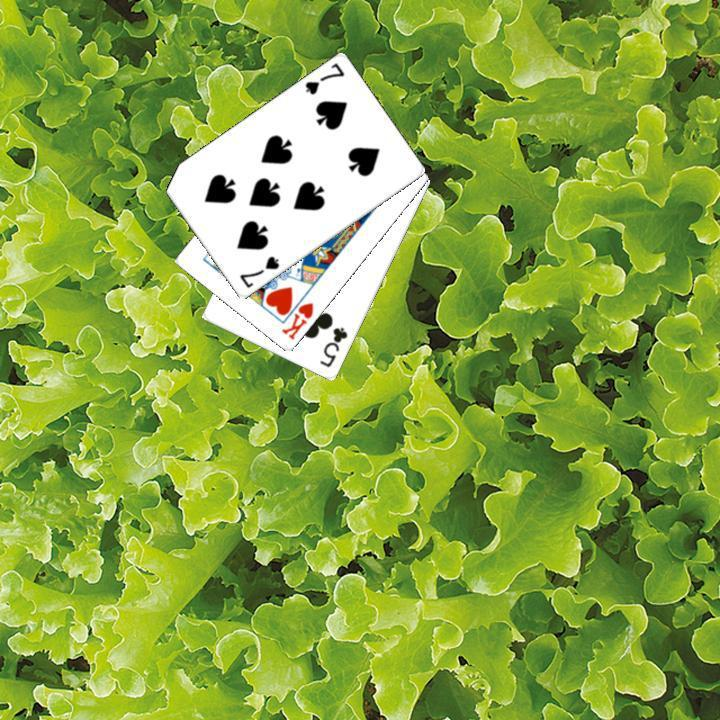5: (316, 323, 350, 370)
7: (235, 252, 281, 291), (300, 59, 346, 97)
K: (277, 298, 316, 342)
